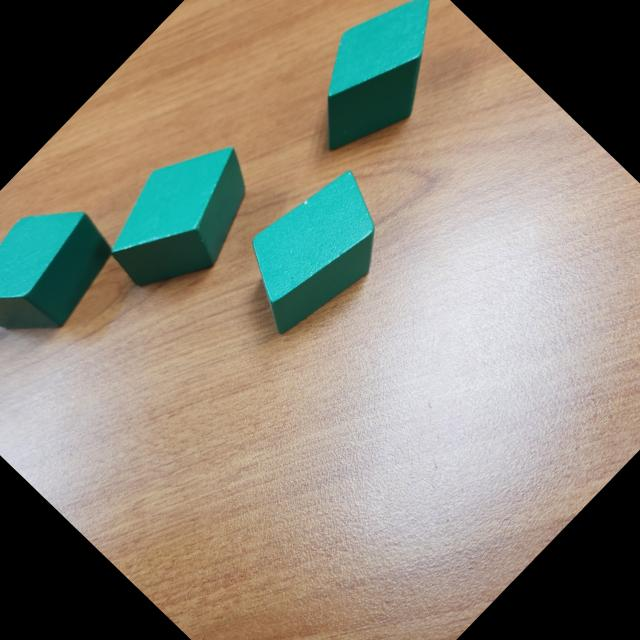green: (86, 120, 282, 318), (217, 155, 409, 349), (276, 0, 481, 176), (0, 182, 131, 365)
